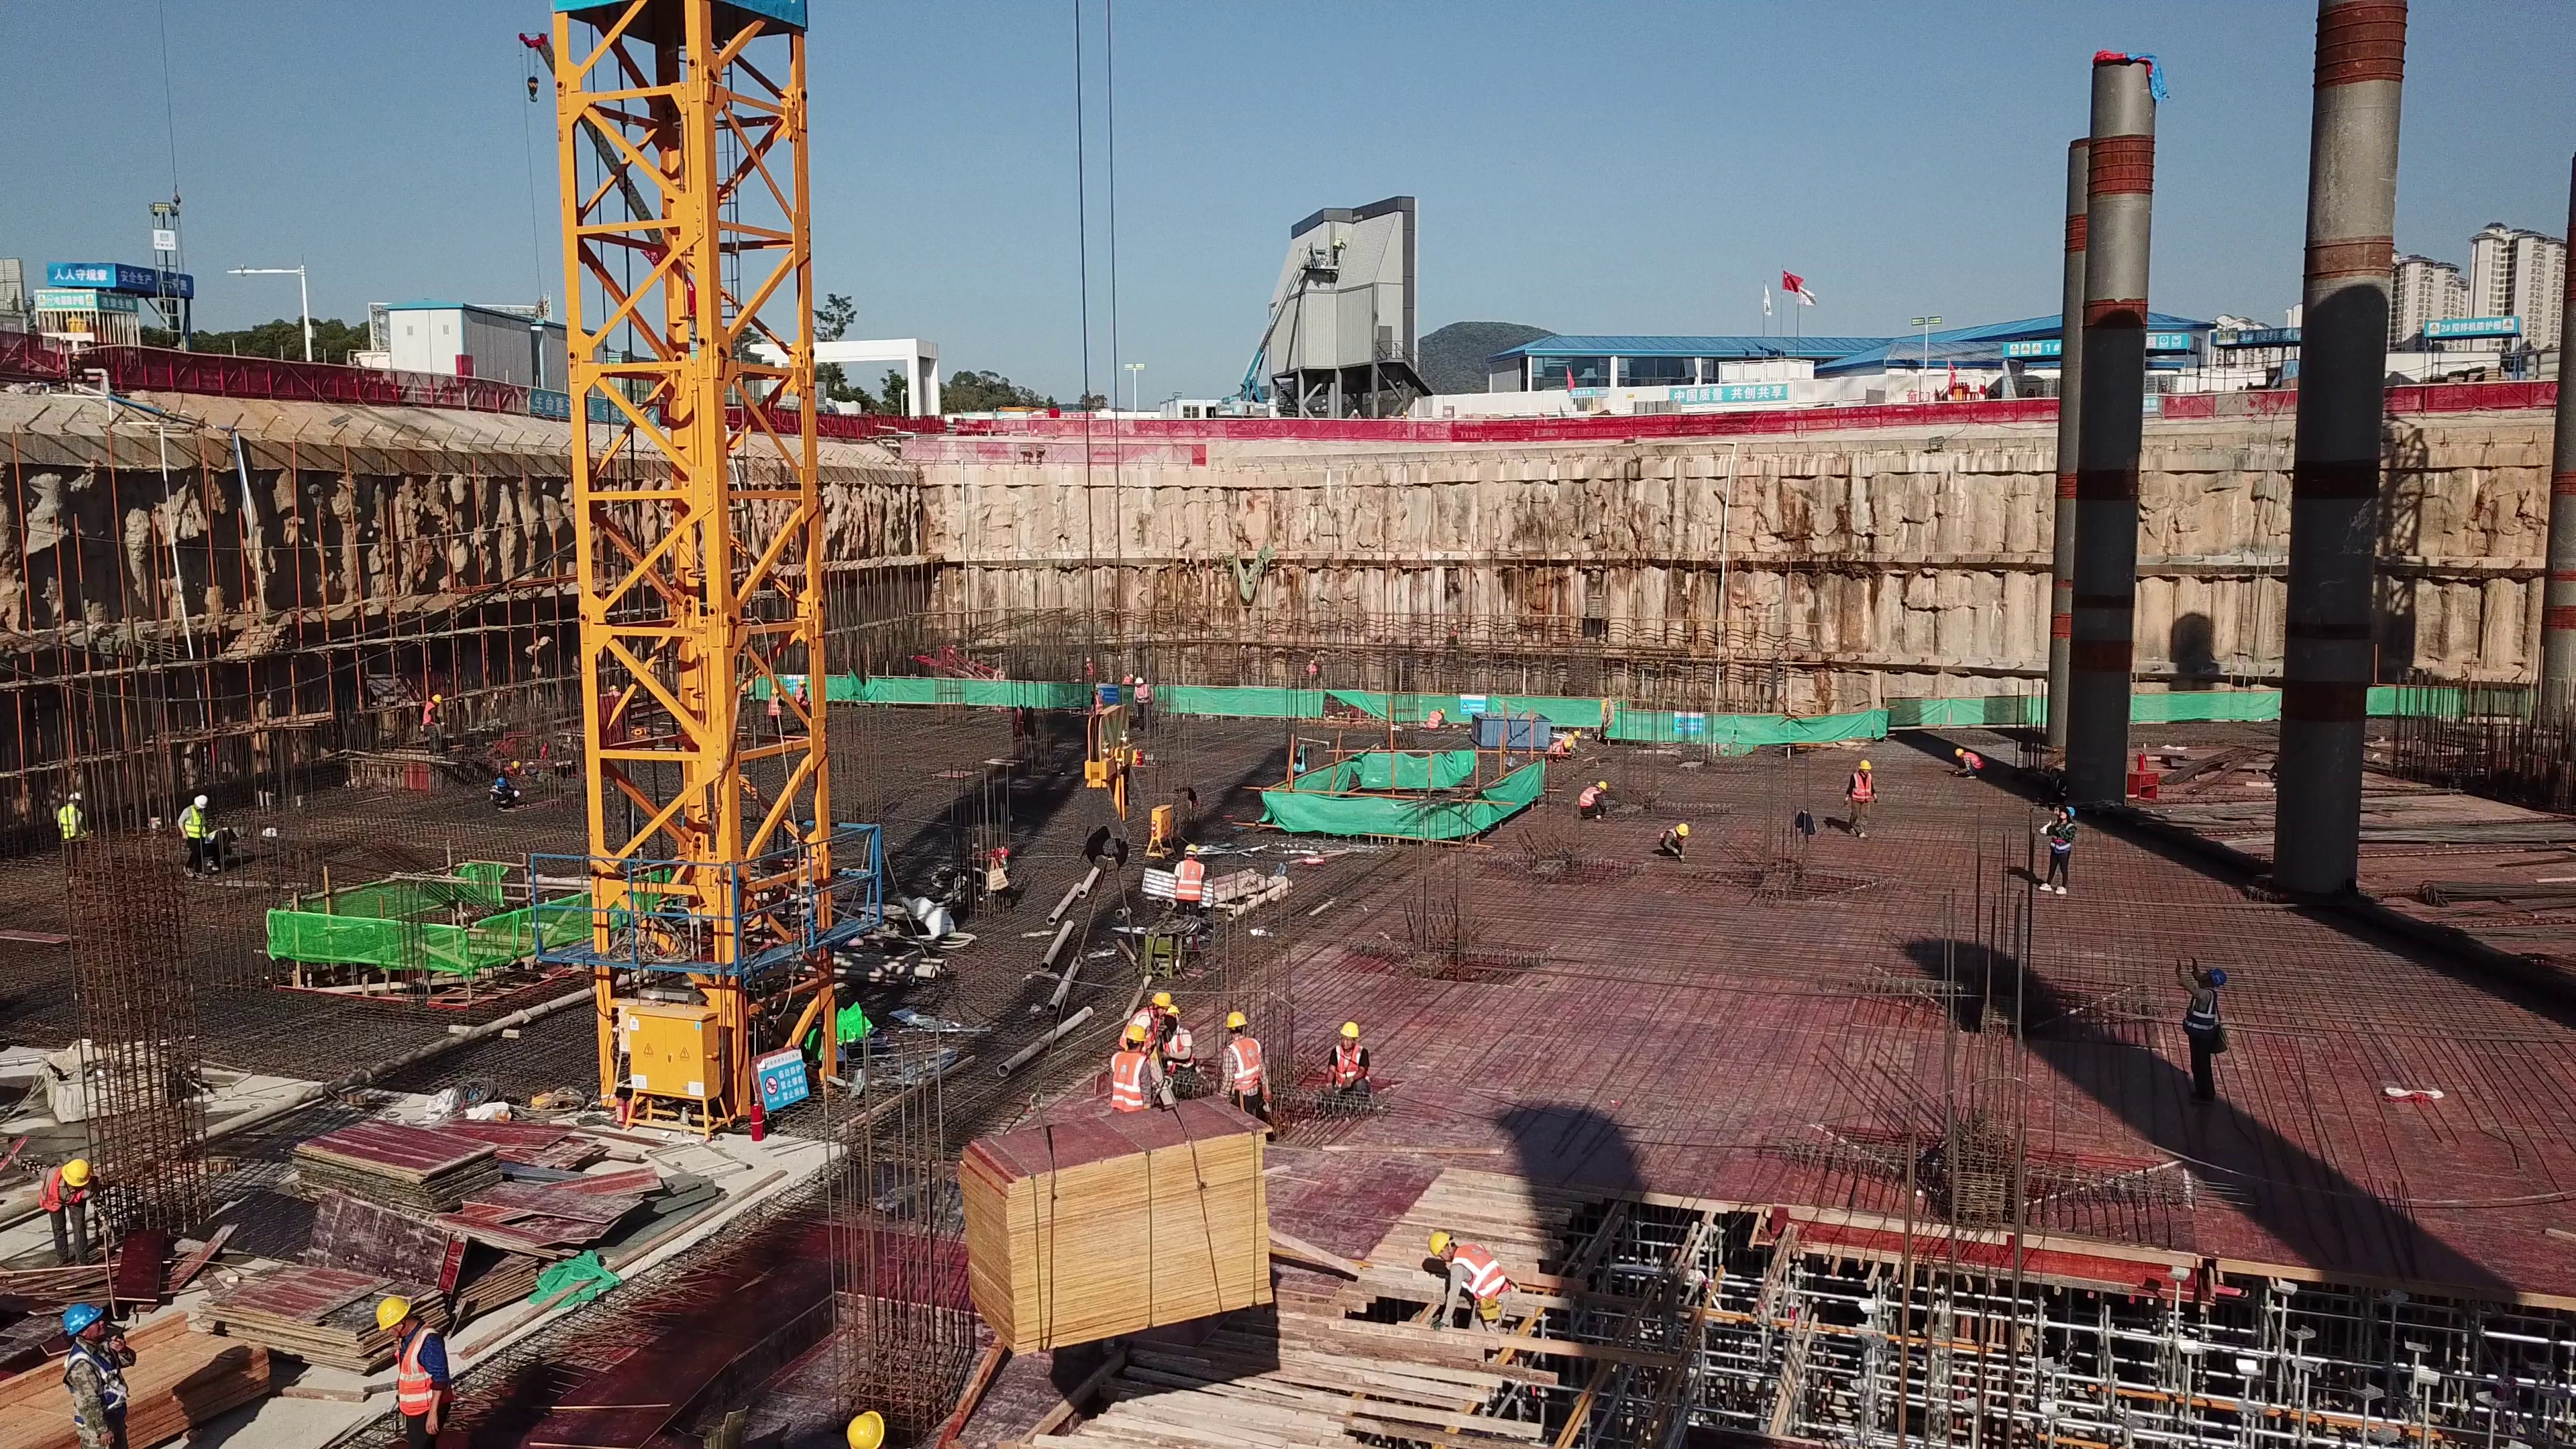board: (284, 1108, 648, 1295), (965, 1124, 1284, 1338)
ebox: (613, 1003, 733, 1141), (1144, 799, 1173, 861)
fence: (190, 359, 498, 412), (1451, 411, 1778, 450)
helmet: (833, 1399, 885, 1449), (60, 1301, 99, 1331), (370, 1298, 410, 1327), (66, 1156, 94, 1184), (1426, 1226, 1451, 1258), (1338, 1022, 1360, 1039), (1224, 1012, 1248, 1030), (2212, 970, 2229, 989), (1153, 989, 1173, 1006), (1127, 1025, 1145, 1041), (1856, 759, 1874, 773), (195, 794, 209, 808), (1165, 1005, 1181, 1015), (2063, 807, 2076, 818), (233, 826, 246, 839), (1677, 824, 1689, 837), (1951, 746, 1965, 758), (67, 793, 84, 800), (1439, 707, 1448, 718), (1599, 777, 1609, 789), (1563, 741, 1573, 750), (1134, 677, 1146, 685), (1572, 729, 1581, 737), (1128, 674, 1134, 680), (1085, 657, 1092, 662)
hook: (1079, 702, 1134, 869), (514, 62, 555, 122)
hopper: (1477, 698, 1547, 765)
person: (368, 1290, 465, 1449), (1426, 1226, 1519, 1350), (54, 1303, 130, 1449), (2171, 954, 2230, 1104), (38, 1148, 103, 1261), (1216, 1004, 1270, 1128), (1106, 1024, 1161, 1116), (1321, 1017, 1377, 1106), (2040, 803, 2081, 897), (55, 791, 89, 885), (176, 790, 211, 881), (1845, 758, 1879, 845), (1174, 843, 1207, 926), (205, 821, 245, 877), (1165, 1006, 1195, 1078), (1573, 779, 1613, 820), (1657, 820, 1695, 867), (421, 691, 447, 755), (1123, 987, 1167, 1023), (1133, 675, 1154, 738), (1951, 747, 1986, 782), (490, 781, 522, 813), (792, 678, 810, 734), (766, 688, 788, 734), (503, 754, 527, 776), (1426, 707, 1450, 730), (1445, 618, 1464, 645), (1550, 742, 1574, 761), (1305, 659, 1320, 689), (1089, 688, 1103, 718), (1084, 657, 1095, 686), (1562, 729, 1586, 741), (1122, 672, 1135, 685)
slogan: (532, 391, 662, 431), (2006, 331, 2186, 352), (1670, 384, 1790, 402), (52, 251, 117, 285), (118, 270, 193, 293), (2220, 327, 2307, 345), (2422, 321, 2518, 334), (46, 289, 93, 309), (101, 295, 146, 315)
vest: (394, 1331, 449, 1410), (66, 1345, 123, 1413), (1455, 1242, 1509, 1301), (1114, 1053, 1144, 1118), (1229, 1039, 1263, 1091), (2185, 990, 2216, 1035), (40, 1169, 65, 1216), (1335, 1045, 1366, 1085), (2048, 820, 2079, 855), (1851, 773, 1876, 804), (60, 806, 85, 838), (182, 812, 208, 841), (1166, 1030, 1188, 1061), (1578, 788, 1596, 815), (1964, 753, 1982, 775), (205, 828, 227, 845), (492, 788, 516, 802), (1656, 828, 1674, 844), (1546, 740, 1563, 755), (1136, 686, 1149, 703), (1426, 712, 1441, 727), (1092, 696, 1102, 713), (1086, 663, 1093, 676), (1123, 676, 1130, 684), (1089, 687, 1099, 693)
wood: (1083, 1364, 1505, 1442)
